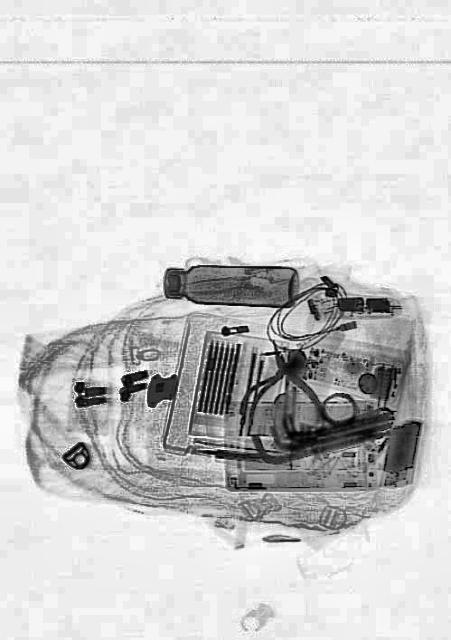Pliers: (246, 336, 326, 440)
